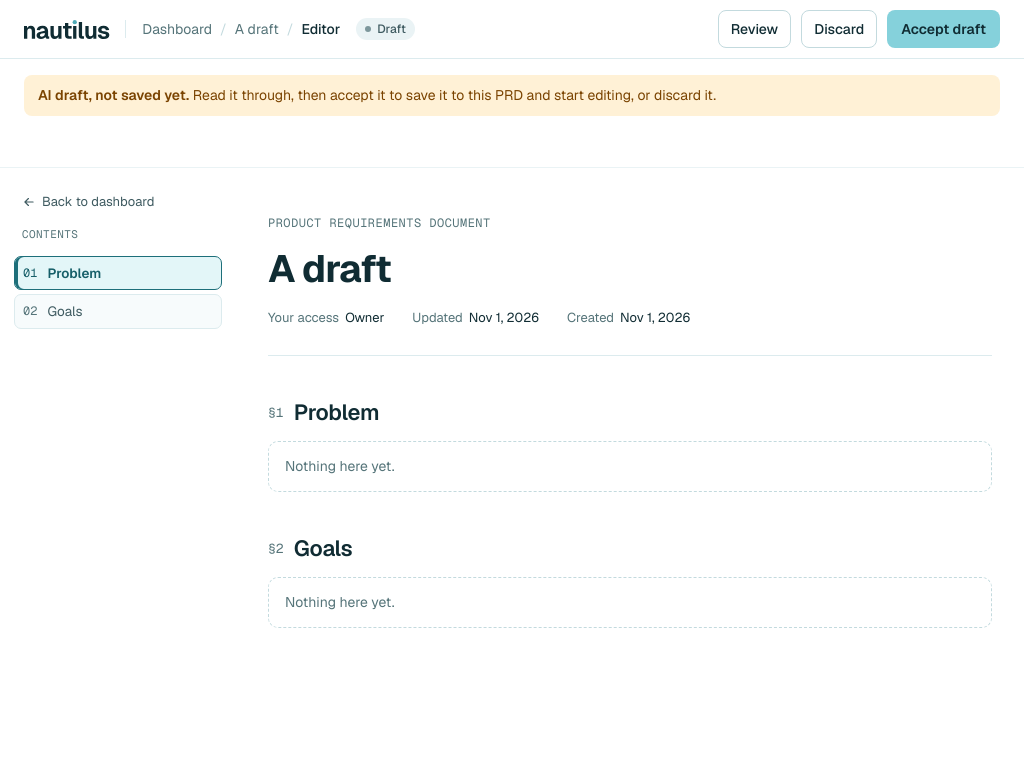
accepting into an approved PRD › asks who reviews it again instead of leaving a dead end
Click the button "Accept draft". click: (944, 29)
box: [887, 10, 1000, 48]
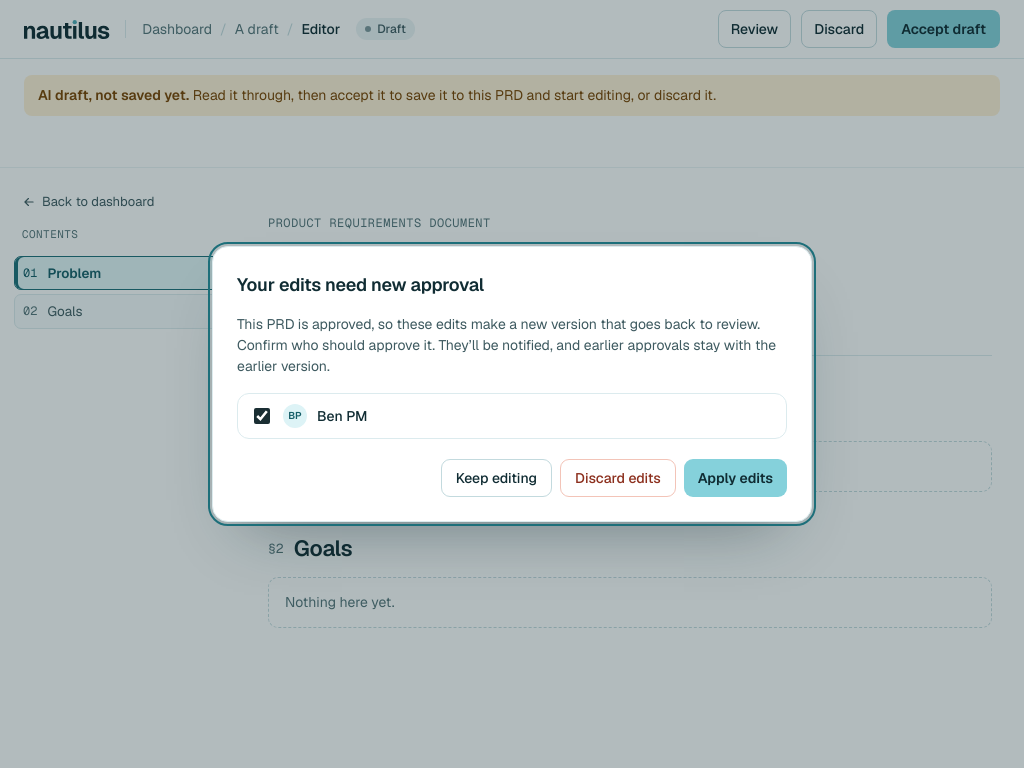
Result: the text "Your edits need new approval" is shown at [237, 273, 484, 296]
